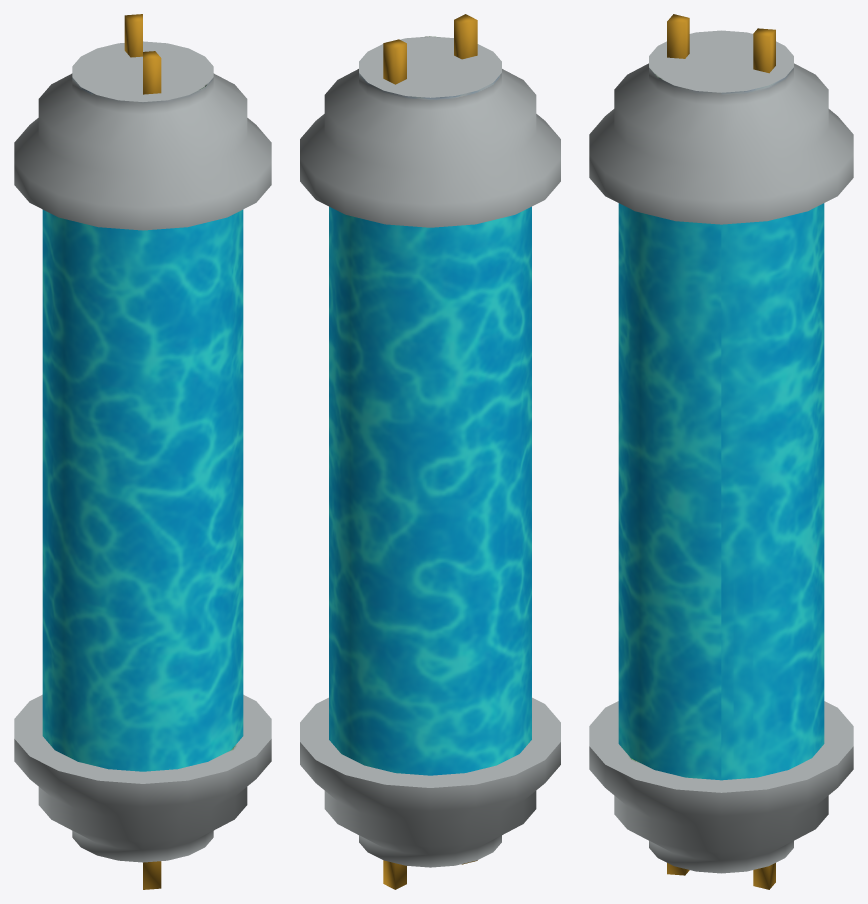
File: Space_Battery.FBX
3 renders of one model, left to right at view 1: azimuth 30°, elevation 25°; view 2: azimuth 150°, elevation 25°; view 3: azimuth 270°, elevation 25°, orthographic. The views are drawn at different scales.
Visible parts, largest first — view 1: Cylinder001; view 2: Cylinder001; view 3: Cylinder001.
Part boxes in pixels (bbox=[...]): Cylinder001: bbox=[14, 14, 271, 889]; Cylinder001: bbox=[300, 14, 560, 889]; Cylinder001: bbox=[589, 14, 853, 889].
Bounding box in the file's own units: 2.57 × 9 × 2.53.
